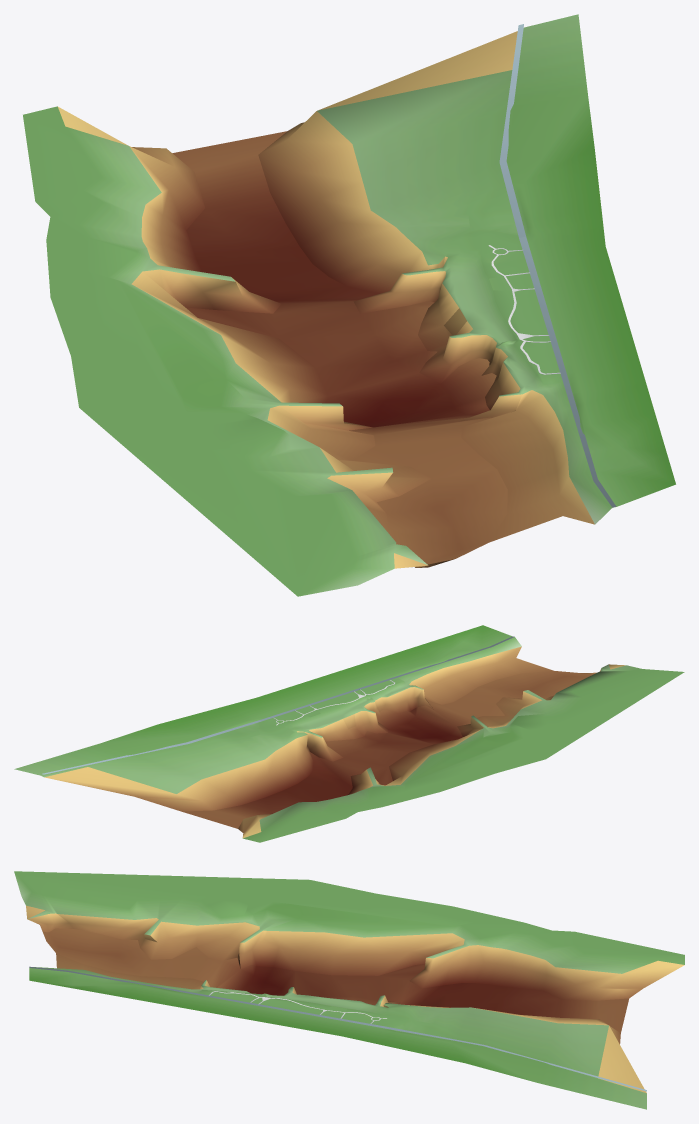
The model's file is StCharles.fbx.
The picture shows the model from 3 angles, top to bottom: view 1: azimuth 30°, elevation 25°; view 2: azimuth 150°, elevation 25°; view 3: azimuth 270°, elevation 25°; orthographic projection. The views are drawn at different scales.
Parts seen in each view (by area): view 1: StCharles; view 2: StCharles; view 3: StCharles.
Part boxes in pixels (x1,y1,x2,y2): StCharles: (23,14,675,596); StCharles: (14,625,684,842); StCharles: (14,871,684,1109).
Bounding box in the file's own units: 145498 × 9250 × 174723.
